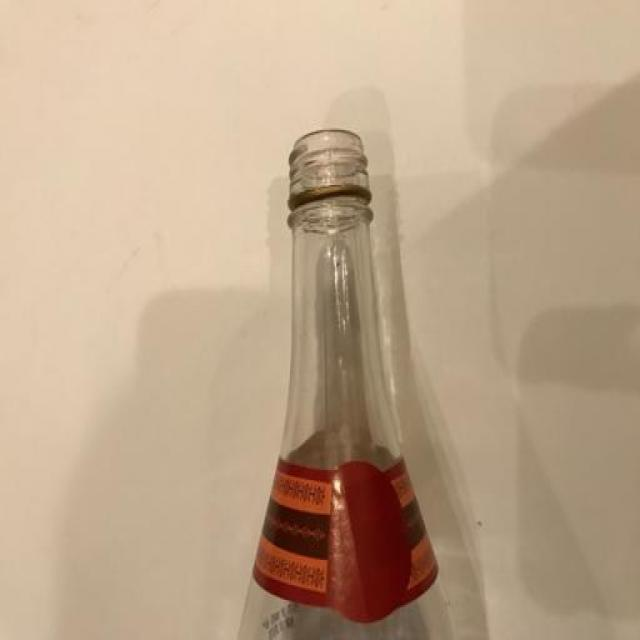Waste: (240, 133, 450, 639)
